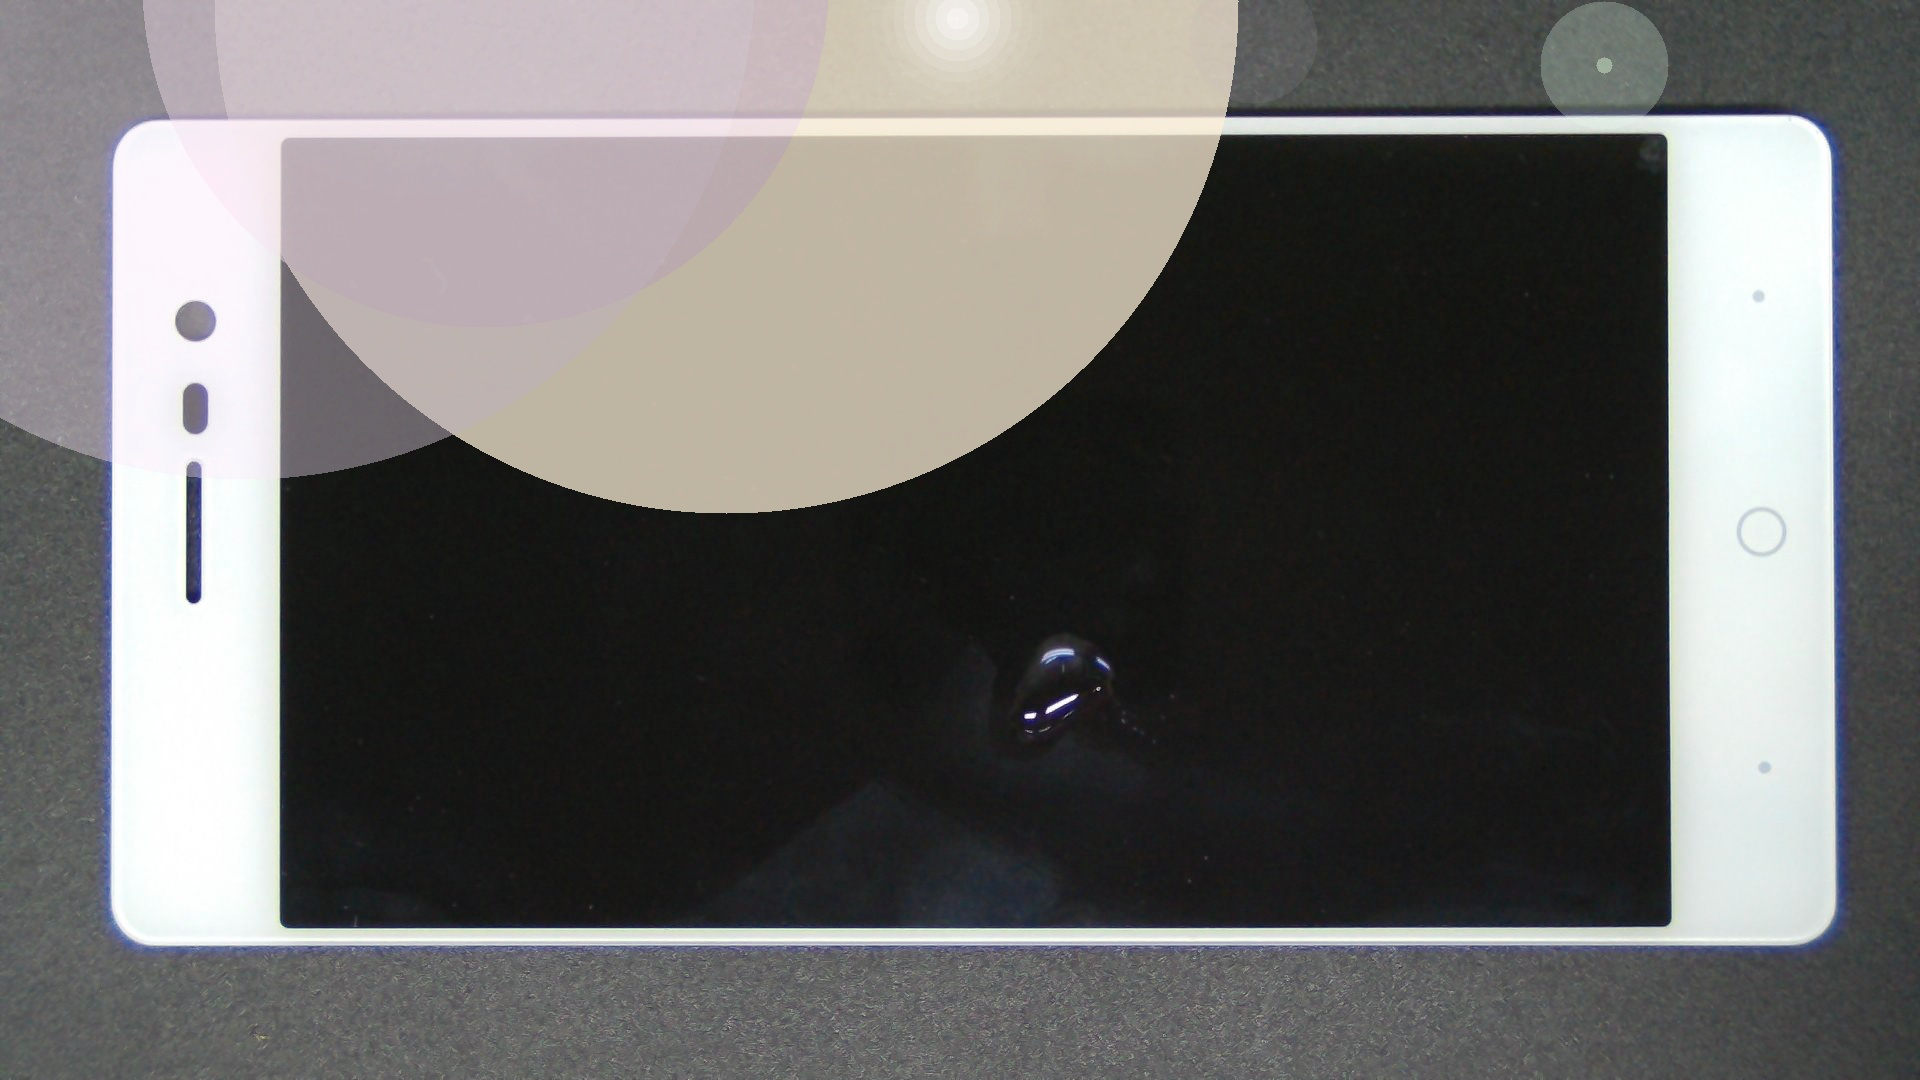oil: (531, 315, 1593, 948)
